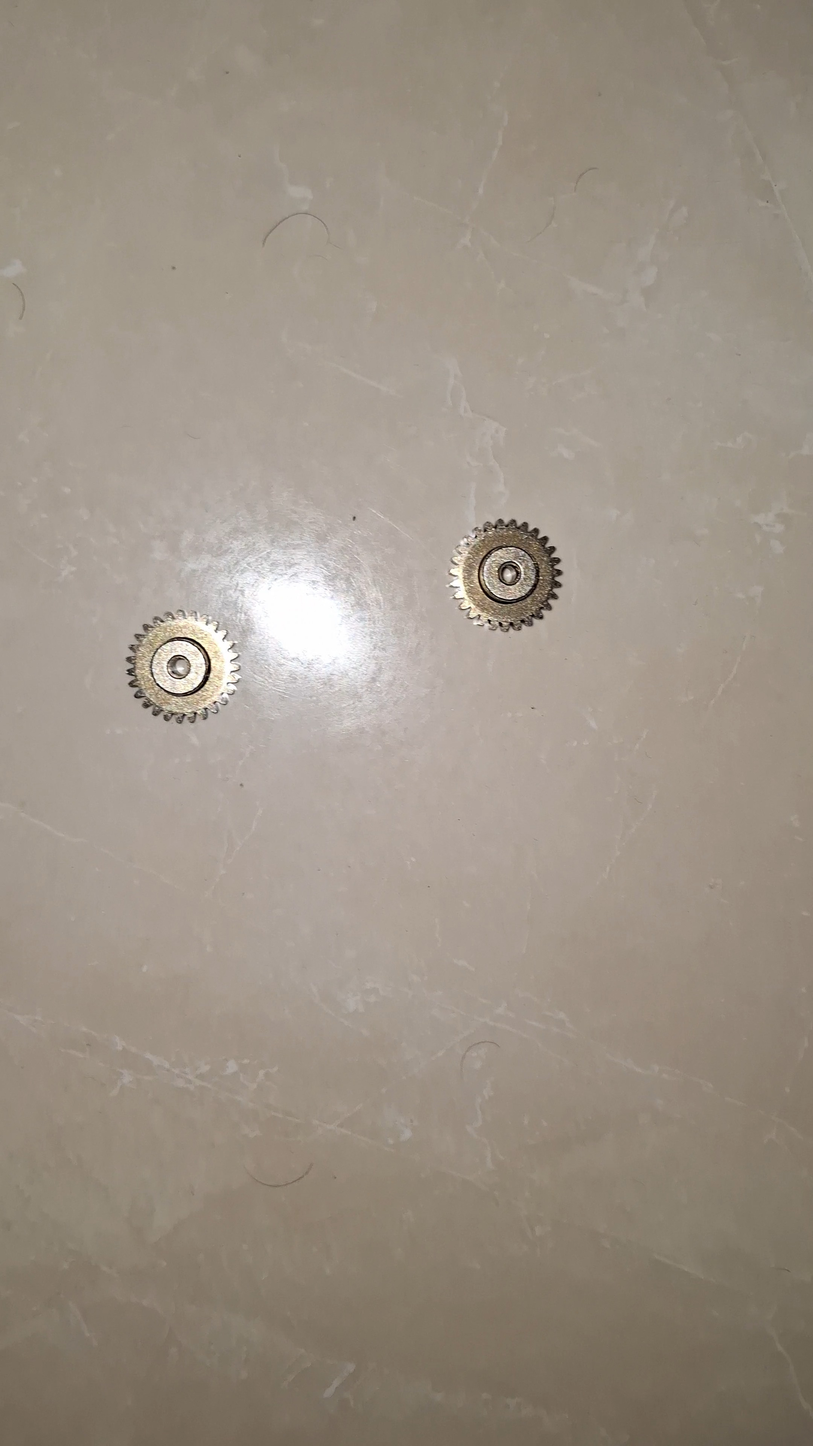spur gear: (450, 519, 561, 631), (128, 610, 239, 722)
